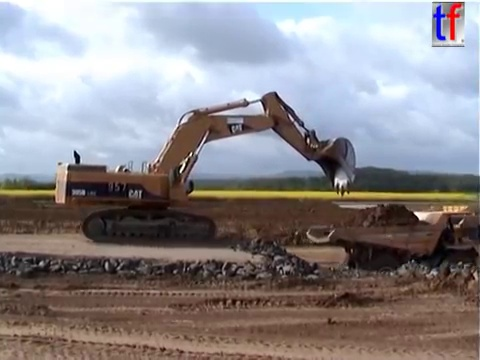excavator: (52, 88, 359, 246)
truck: (303, 203, 480, 294)
